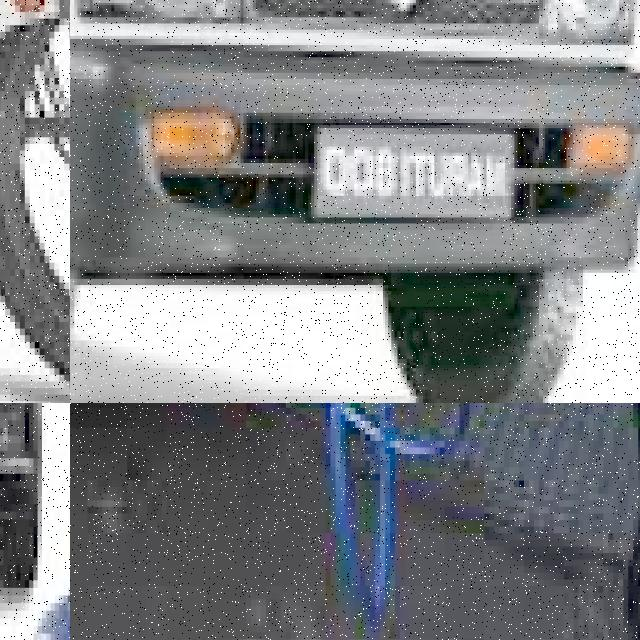bike: (0, 0, 70, 403)
car: (70, 0, 637, 403), (0, 403, 70, 640), (0, 403, 59, 595)
